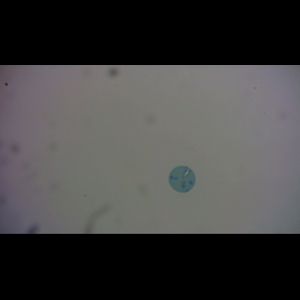aggregate reticulocyte: (168, 165, 197, 193)
